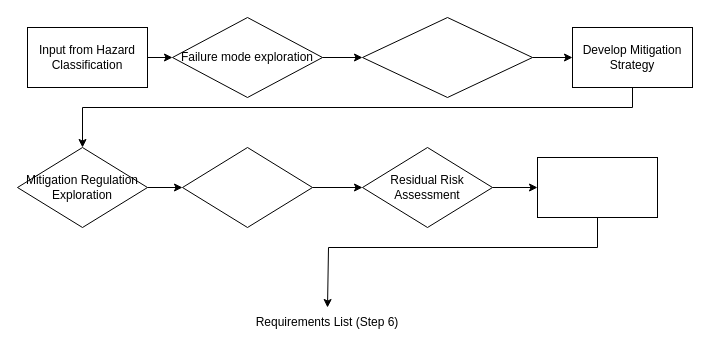
Image size: 710x355. Some labels were removed from this diagram. Each missing label, with the centre of its shape:
Documentation of Risk (Review Cycle): the point at 597,187
Risk Assessment Control: the point at 247,187
Risk Priority Number Calculation: the point at 447,57
